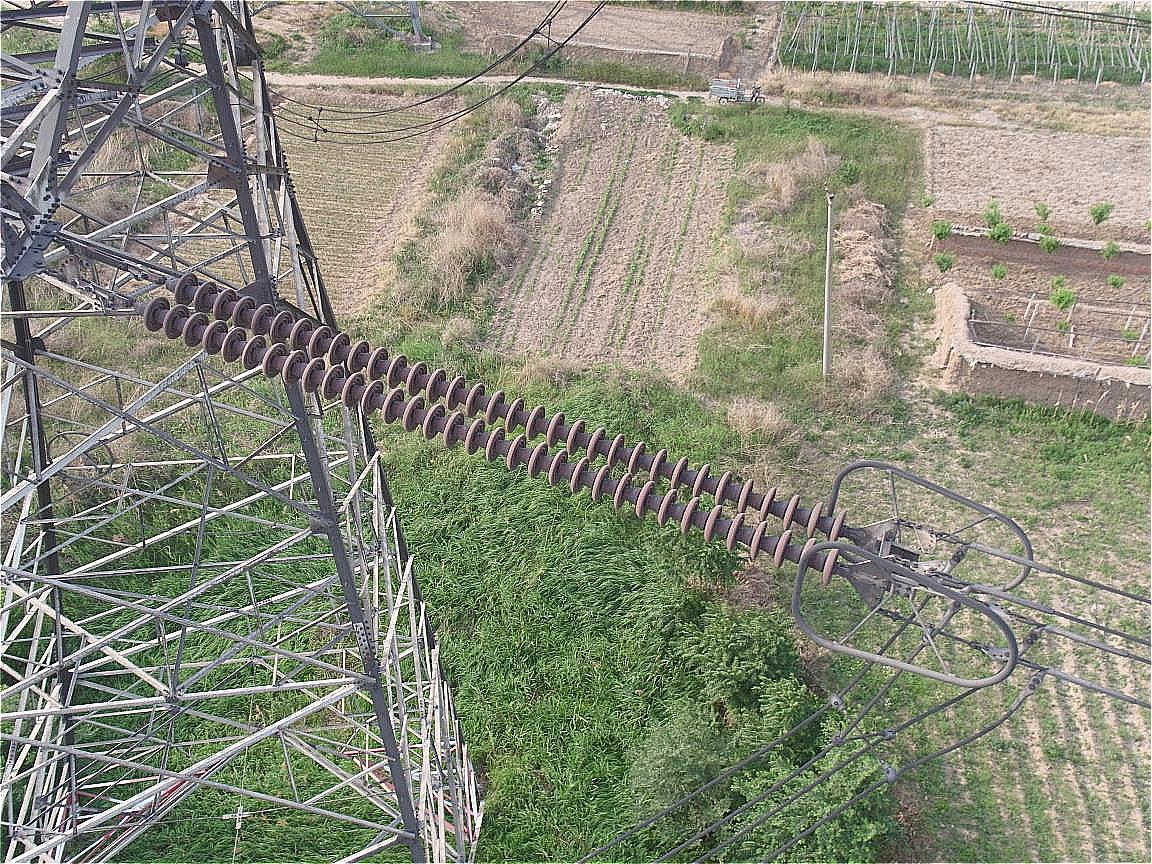insultor1: (141, 271, 848, 583)
